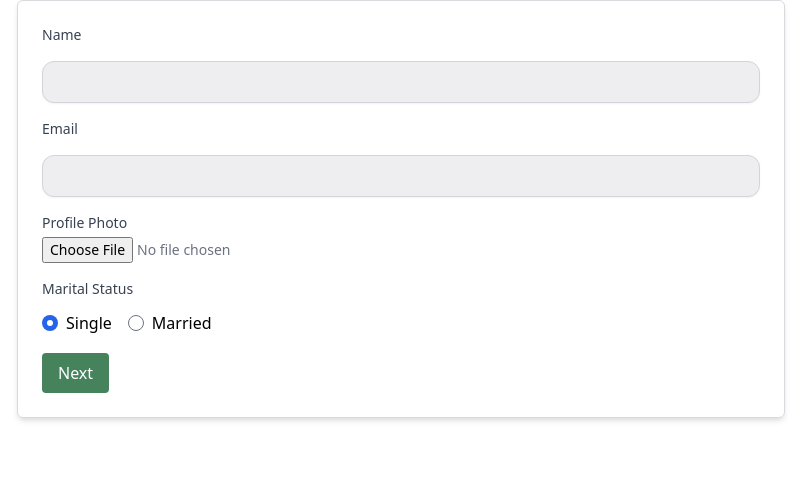
Step1 Component › submit disabled initially
The image size is (803, 479).
Click the button "Next" at {"x": 76, "y": 373}, box [42,353,109,393]
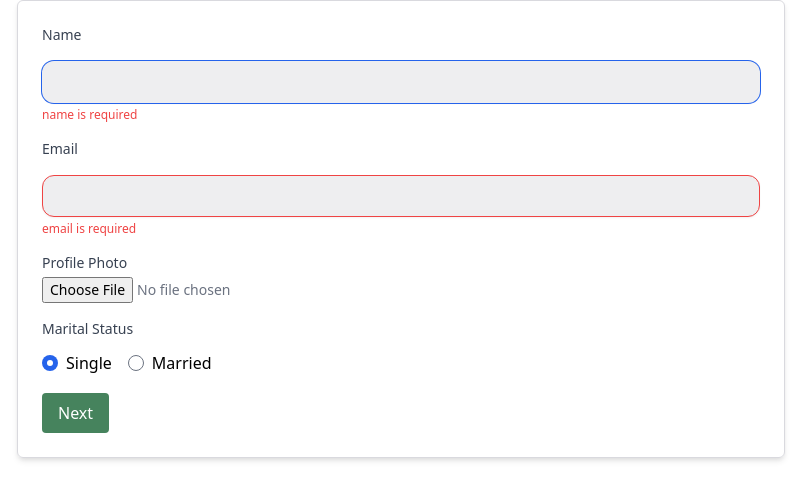
Expected: the text "name is required" is shown, [42,106,138,123]
